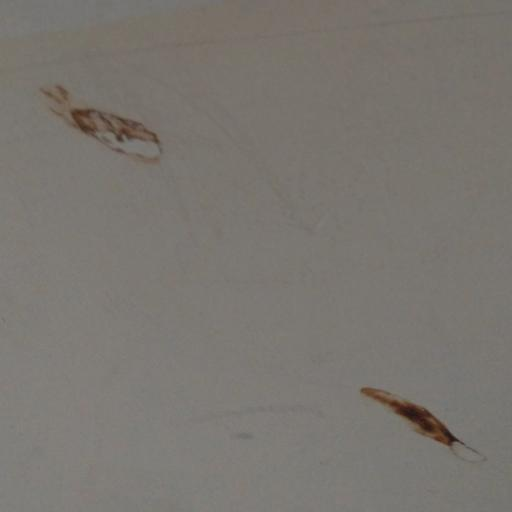stain: (25, 69, 215, 194), (337, 361, 494, 496), (191, 376, 336, 481)
